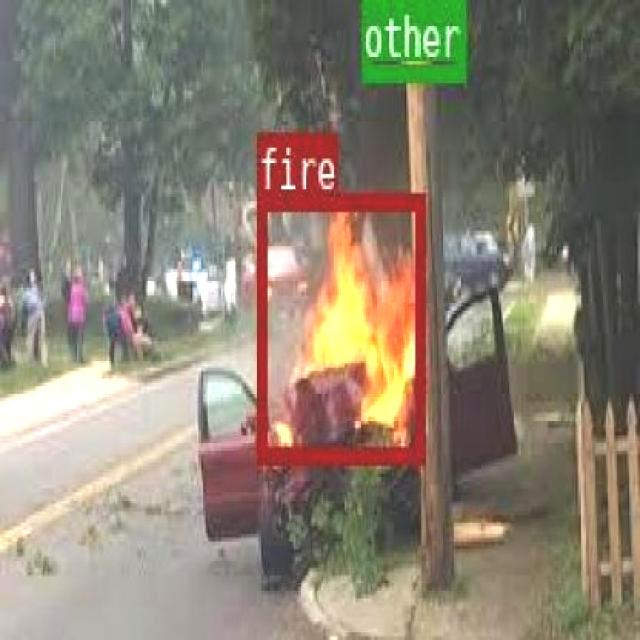fire: (256, 193, 422, 462)
